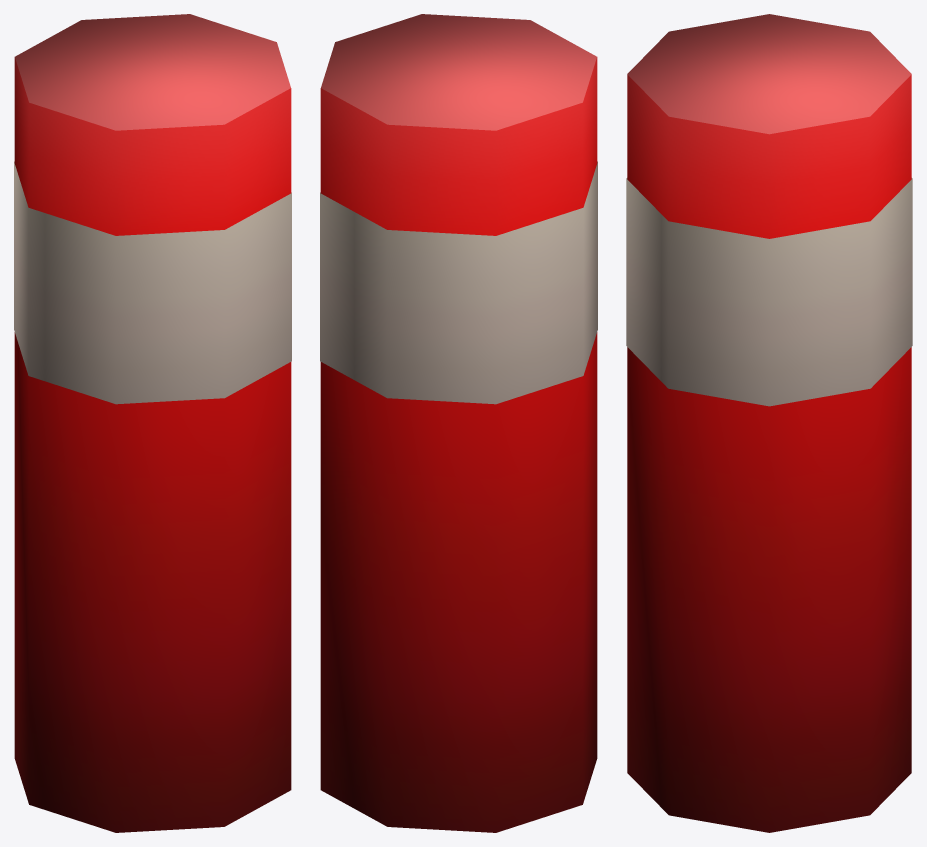
File: Metal_Pole_3A.fbx
3 views of the same model, side by side, from view 1: azimuth 30°, elevation 25°; view 2: azimuth 150°, elevation 25°; view 3: azimuth 270°, elevation 25° (orthographic).
Parts seen in each view (by area): view 1: Metal_Pole_3A; view 2: Metal_Pole_3A; view 3: Metal_Pole_3A.
Boxes of the visible parts, x1,y1,x2,y2 form: Metal_Pole_3A: (14,14,291,832); Metal_Pole_3A: (320,14,597,832); Metal_Pole_3A: (626,14,912,832).
Bounding box in the file's own units: 48.24 × 130 × 48.24.
